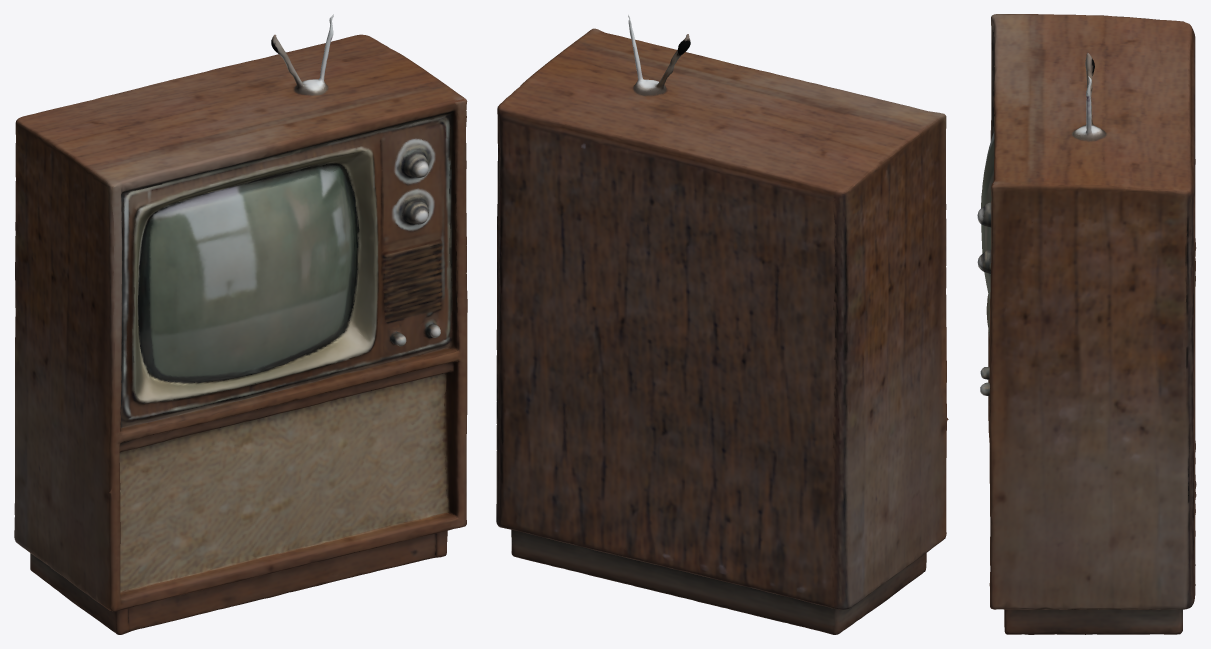
3 renders of one model, left to right at view 1: azimuth 30°, elevation 25°; view 2: azimuth 150°, elevation 25°; view 3: azimuth 270°, elevation 25°, orthographic.
Size of the model in its own units: 0.703 by 0.99 by 0.374.
1 material, 1 textured.
